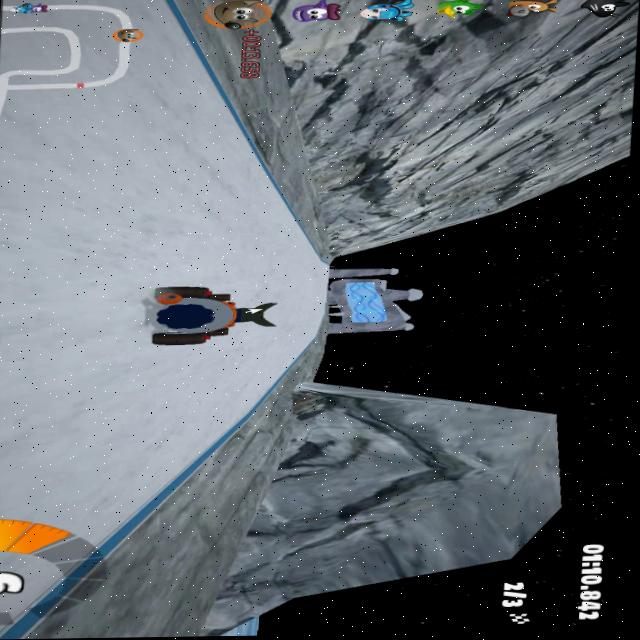player_kart: (136, 281, 279, 356)
track: (0, 0, 160, 551), (146, 124, 238, 281), (132, 356, 269, 416), (224, 220, 302, 279), (125, 416, 211, 469), (154, 70, 220, 129), (235, 168, 279, 228), (294, 263, 332, 330), (279, 281, 309, 356), (133, 469, 177, 502), (156, 36, 195, 72), (299, 242, 316, 264), (281, 211, 292, 219)
